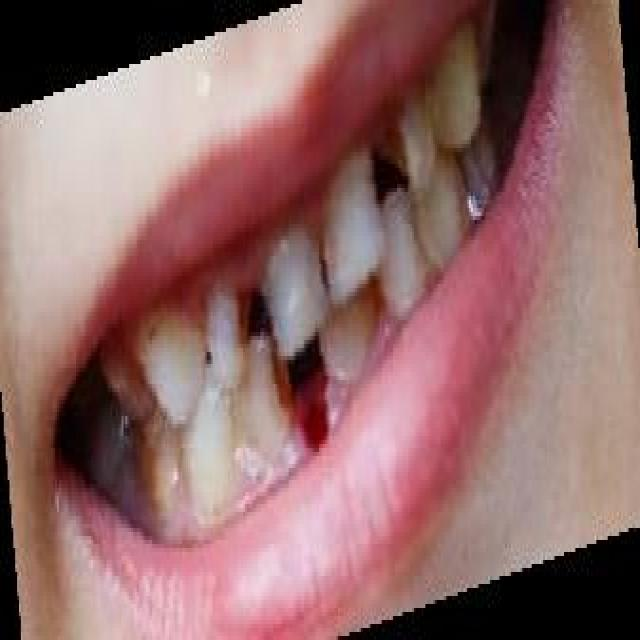caries: (372, 113, 415, 204), (220, 275, 259, 357), (264, 329, 298, 414)
